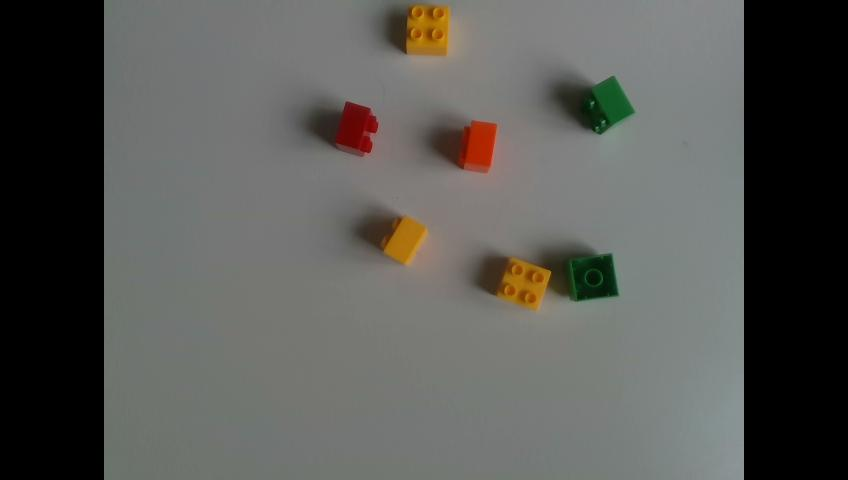2x2_green: (581, 75, 635, 132), (571, 252, 619, 299)
2x2_orange: (460, 120, 496, 170)
2x2_red: (336, 99, 376, 155)
2x2_yellow: (496, 257, 550, 309), (383, 215, 427, 263), (407, 5, 450, 53)
